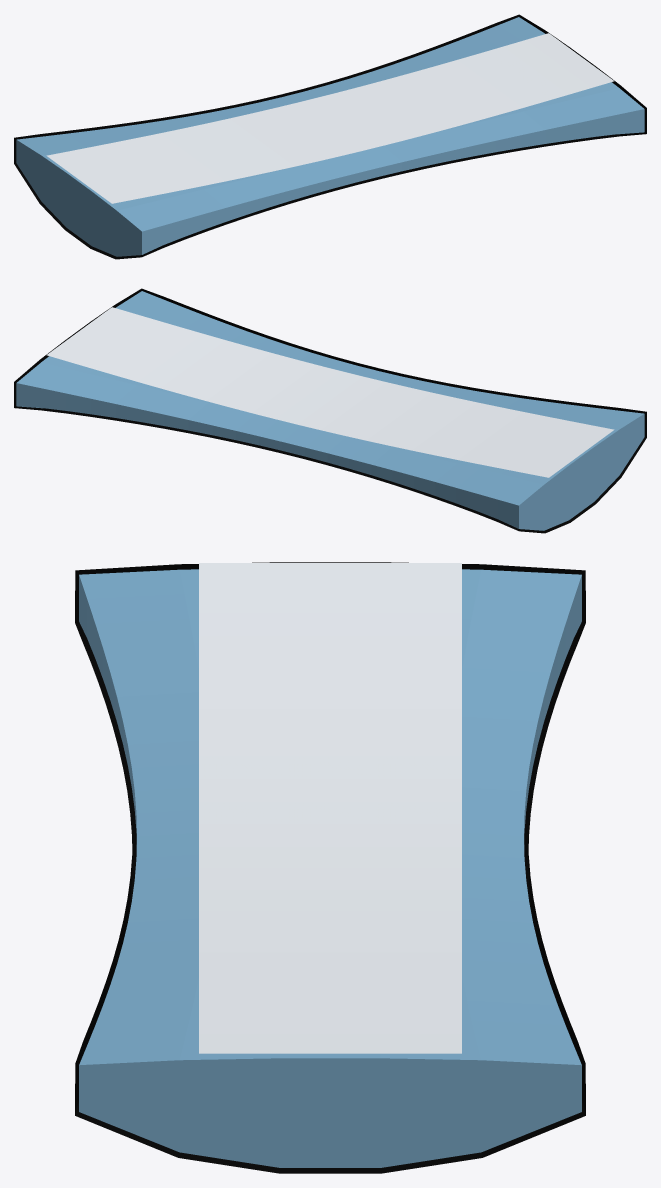
Rendered from Tundra_IceBridge.glb.
3 renders of one model, top to bottom at view 1: azimuth 30°, elevation 25°; view 2: azimuth 150°, elevation 25°; view 3: azimuth 270°, elevation 25°, orthographic. The views are drawn at different scales.
Parts seen in each view (by area): view 1: Tundra_IceBridge_Body, Tundra_IceBridge_Deck, Tundra_IceBridge_OutlineHull; view 2: Tundra_IceBridge_Body, Tundra_IceBridge_Deck, Tundra_IceBridge_OutlineHull; view 3: Tundra_IceBridge_Body, Tundra_IceBridge_Deck, Tundra_IceBridge_OutlineHull.
Boxes of the visible parts, left/top/right/bottom form: Tundra_IceBridge_Body: left=16, top=17, right=644, bottom=256; Tundra_IceBridge_Deck: left=46, top=33, right=614, bottom=203; Tundra_IceBridge_OutlineHull: left=14, top=14, right=646, bottom=259; Tundra_IceBridge_Body: left=16, top=291, right=644, bottom=530; Tundra_IceBridge_Deck: left=46, top=307, right=614, bottom=477; Tundra_IceBridge_OutlineHull: left=14, top=288, right=646, bottom=533; Tundra_IceBridge_Body: left=79, top=569, right=581, bottom=1167; Tundra_IceBridge_Deck: left=199, top=563, right=461, bottom=1053; Tundra_IceBridge_OutlineHull: left=75, top=562, right=585, bottom=1173.
Size of the model in its own units: 9.06 by 1.02 by 3.96.
